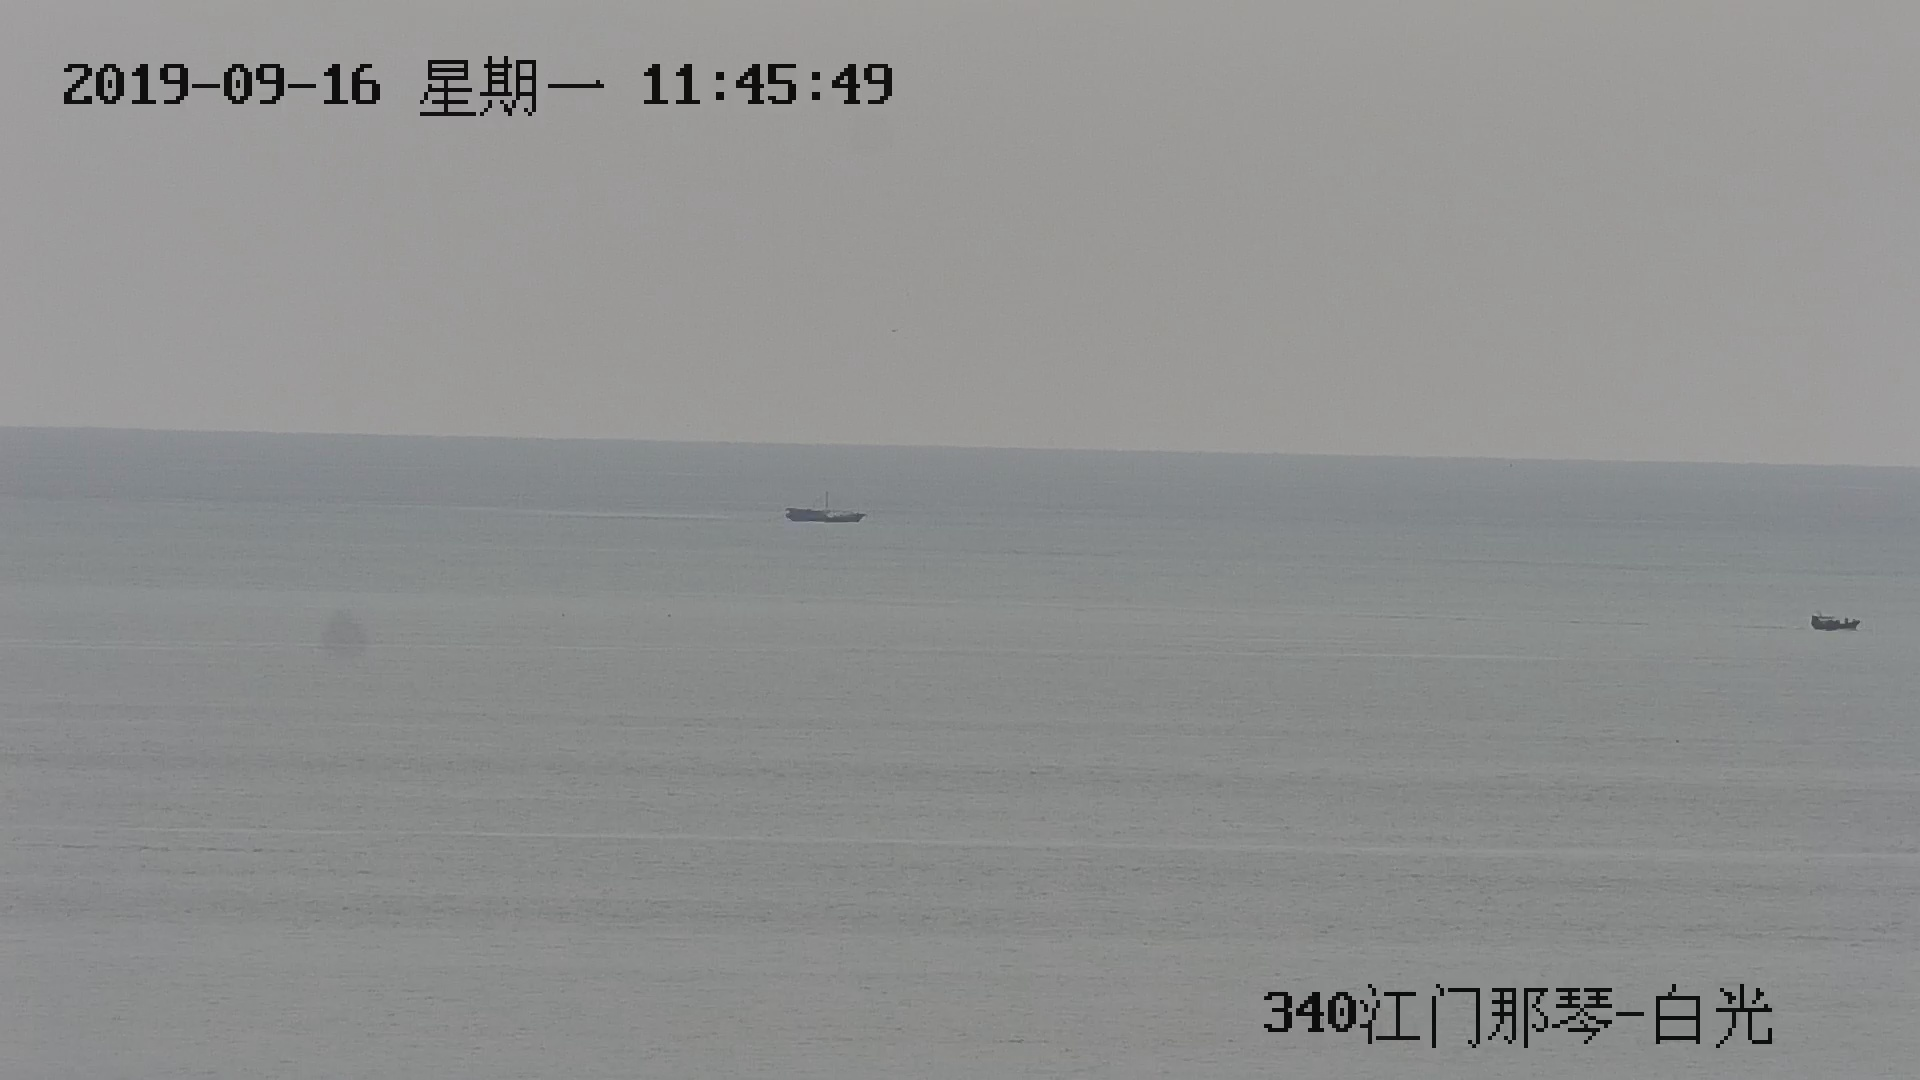ship: (786, 489, 865, 524), (1809, 609, 1862, 632)
